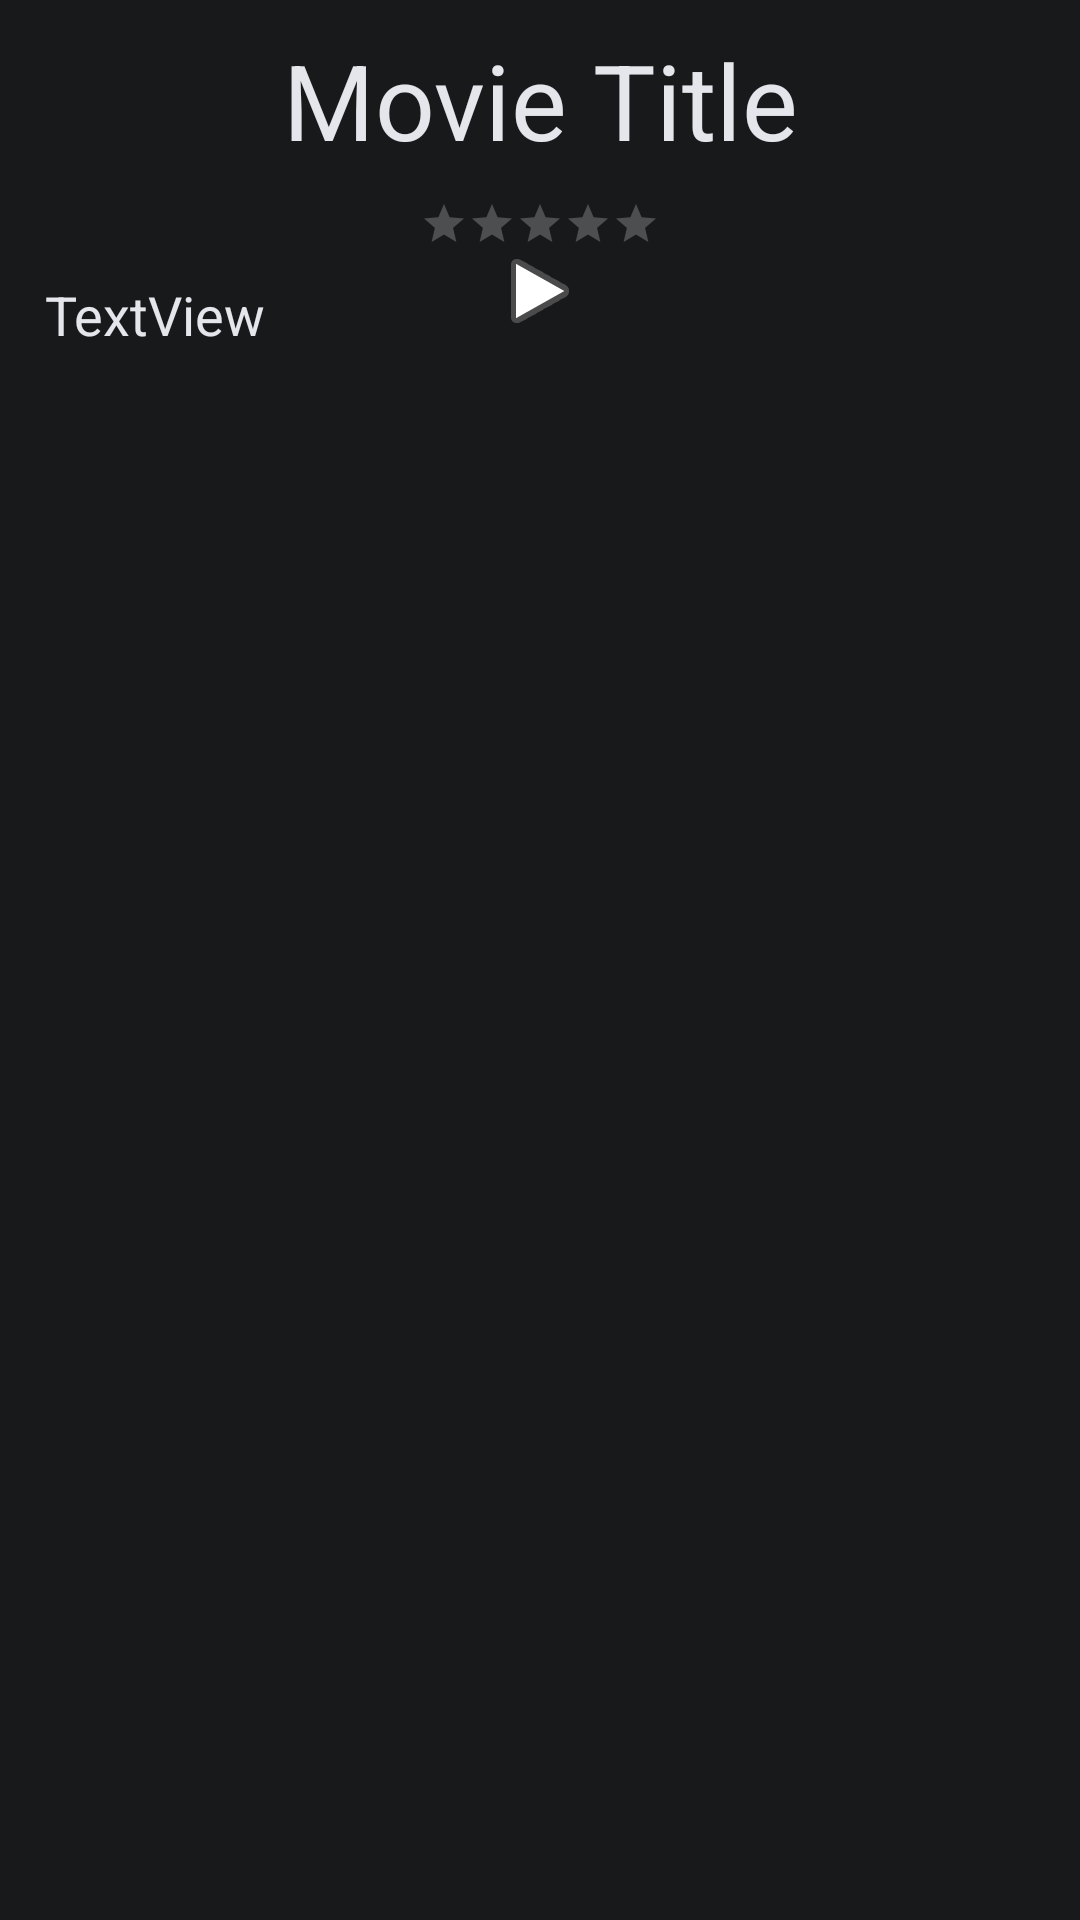

Icon bounding boxes for this 1080x1920 phone screenshot, format box=[x1, y1, x2, y2]:
play: box=[511, 259, 569, 323]
